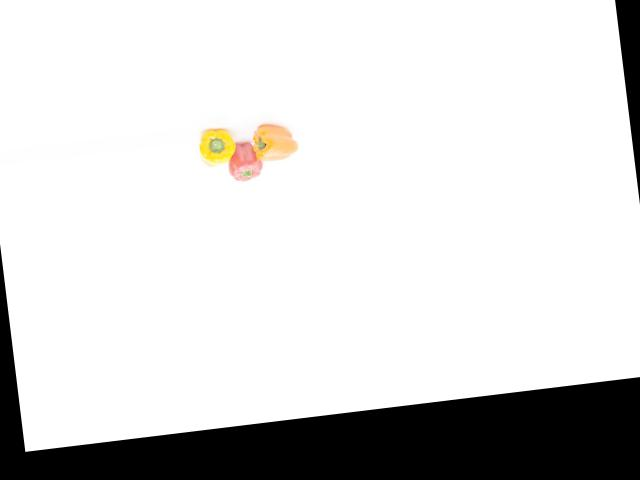bell_pepper: (194, 125, 242, 170)
